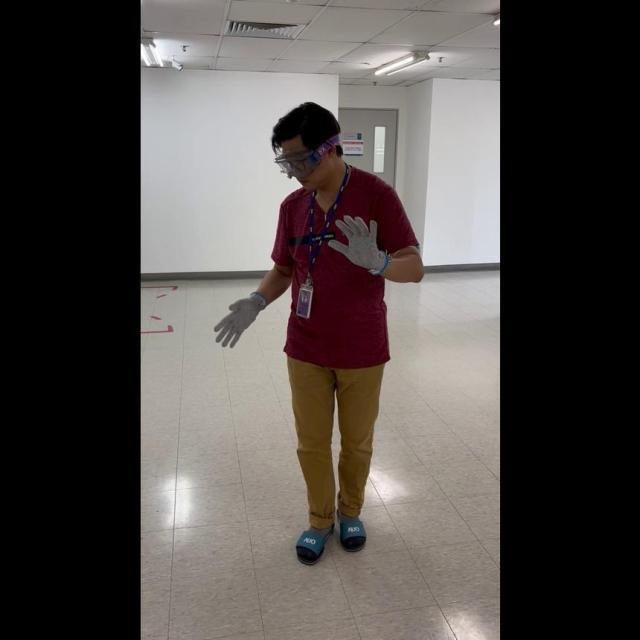gloved_hand: (324, 208, 391, 275), (215, 287, 266, 351)
